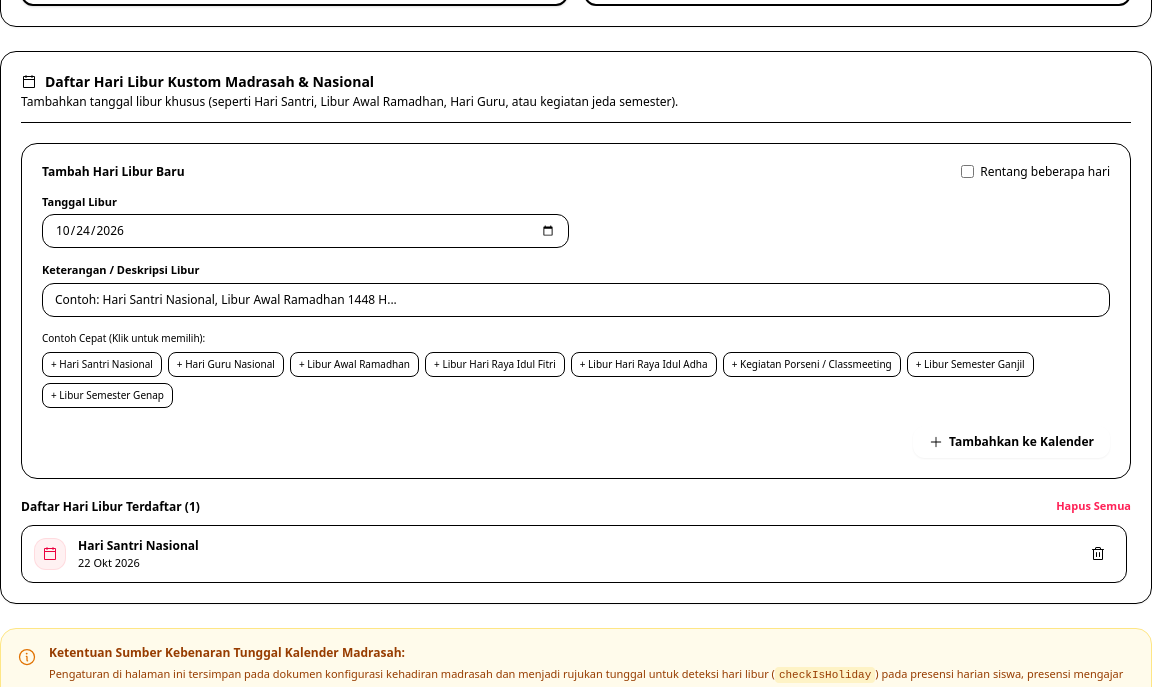
Test: AcademicCalendarPage — Master Centralized Calendar & Holiday Management › form validation and draft semantics › Hapus Semua only changes the draft and Reset restores the saved holidays
The width and height of the screenshot is (1152, 687).
(page scrolled)
Click the button with id "btn-clear-all-holidays": click(1094, 507) 1056,499 -> 1131,514
(page scrolled)
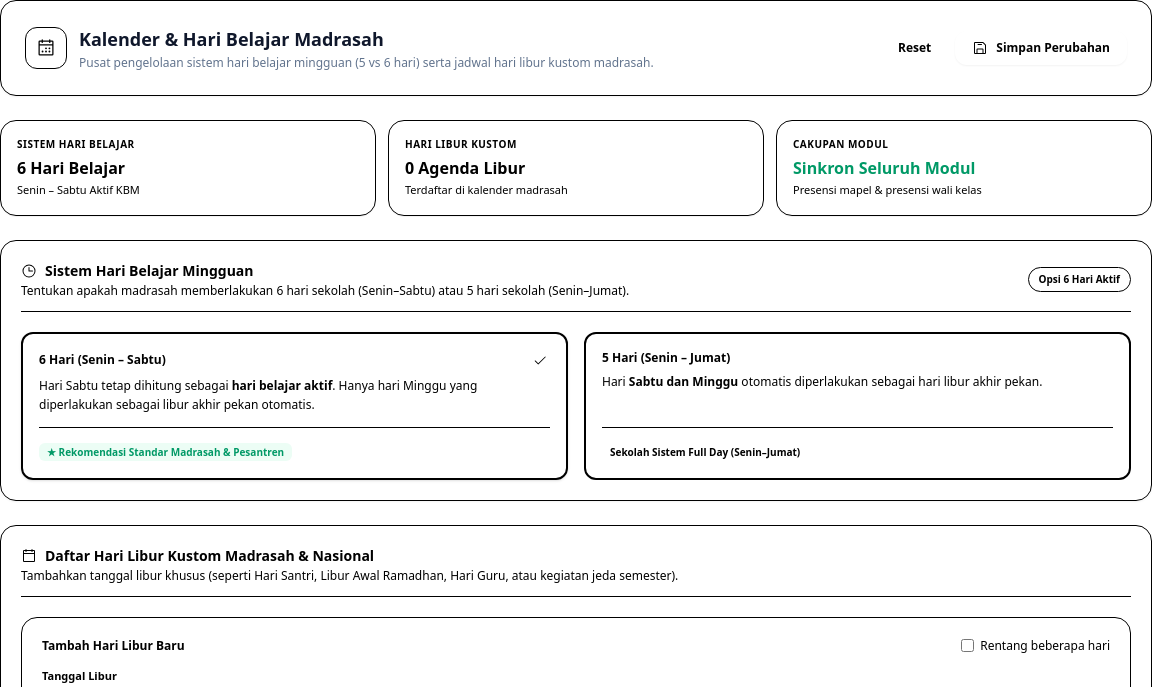
Check: the text "0 Agenda Libur" is shown, box 405,157 -> 525,179
Click the button "Reset": click(915, 48) 884,32 -> 945,64
(page scrolled)
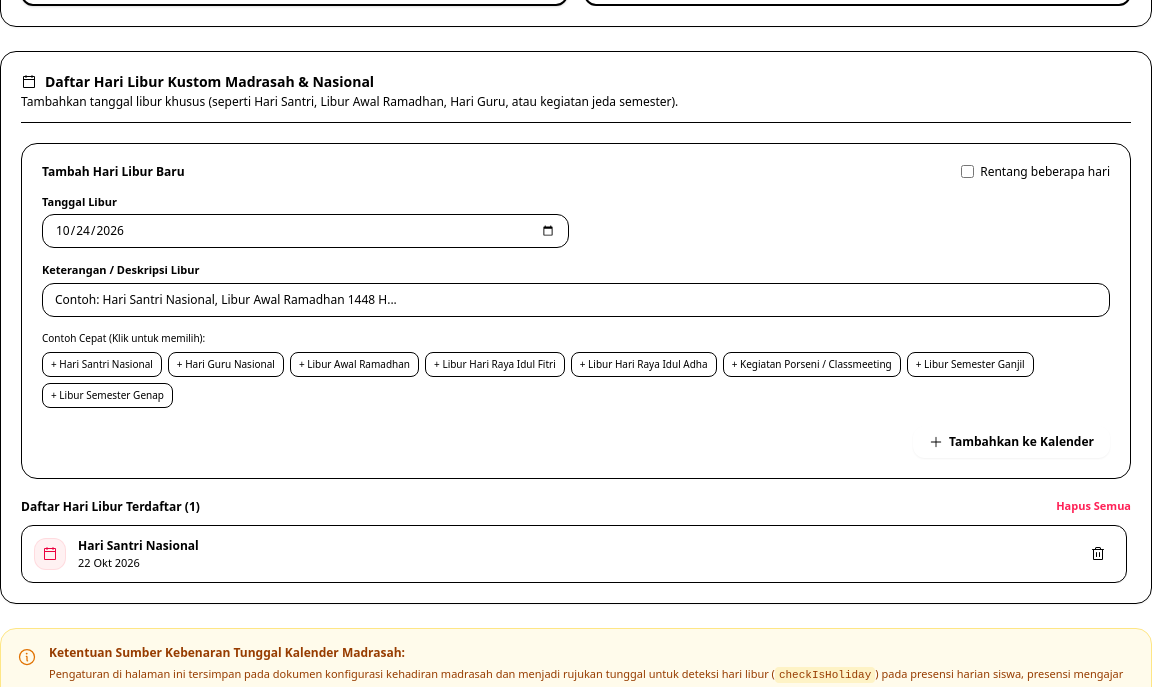
Check: the text "Hari Santri Nasional" is shown, box 78,538 -> 199,554
